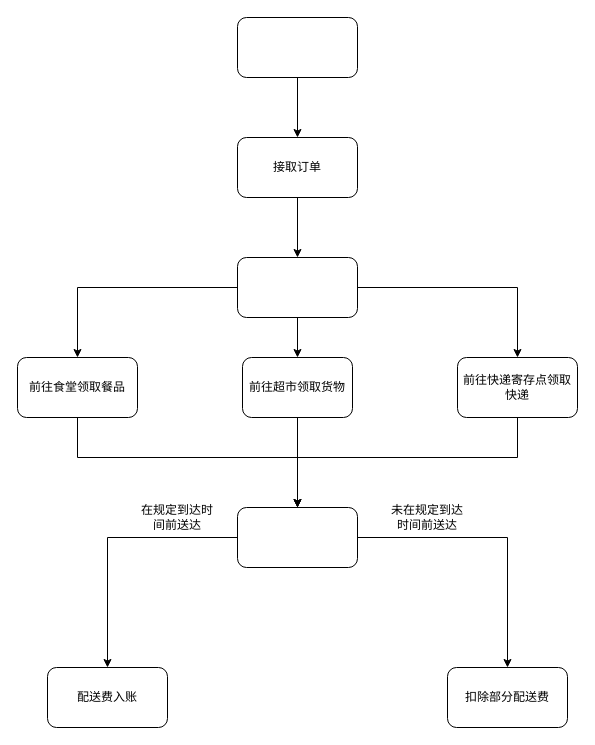
The diagram is 595 pixels wide and 745 high, and some of its shapes have lost their labels. The box of each missing label's shape, as (x1, y1, x2, y2) in pixels:
展示可接取订单: (236, 16, 358, 78)
按照预计出餐时间和送达时间自动规划合适路径: (236, 256, 358, 318)
送达给用户: (236, 506, 358, 568)
